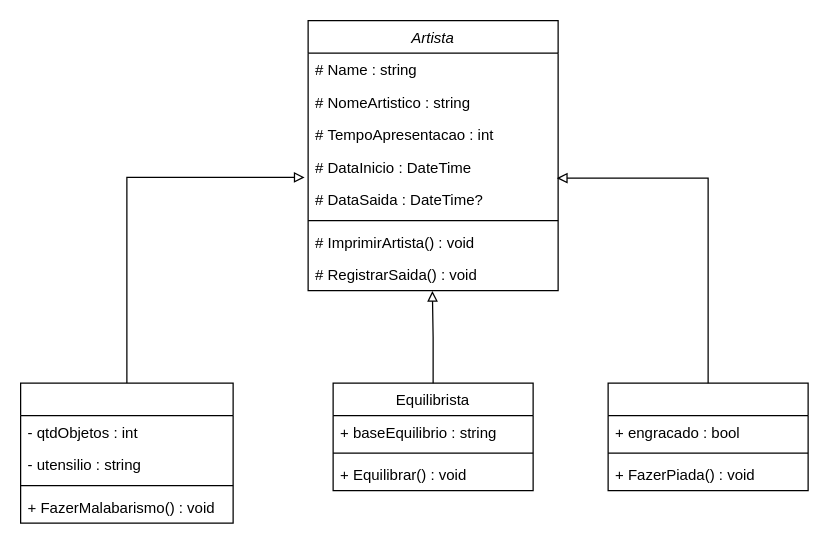
The diagram is 829 pixels wide and 544 high, and some of its shapes have lost their labels. Here are the shapes that lost their labels. From the top down, the box of each, then its label:
(19, 382, 233, 523): Malabarista
(607, 382, 808, 491): Palhaco
